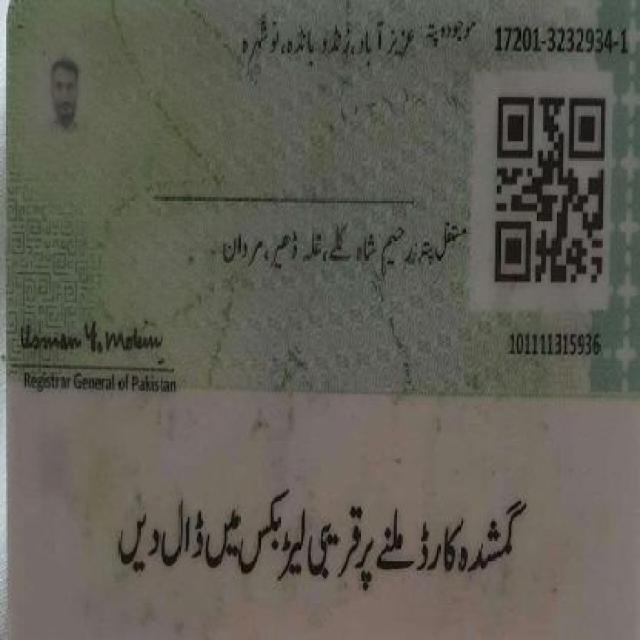Back: (14, 6, 635, 625)
